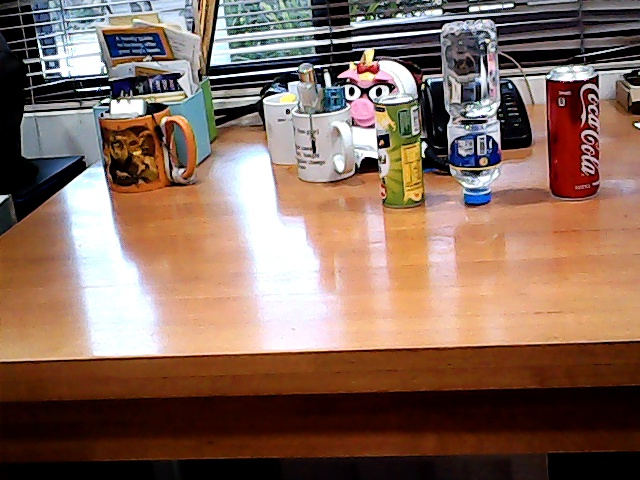Cola: (529, 51, 620, 210)
Pine Juice: (359, 86, 435, 216)
Summit Water: (430, 13, 516, 228)
